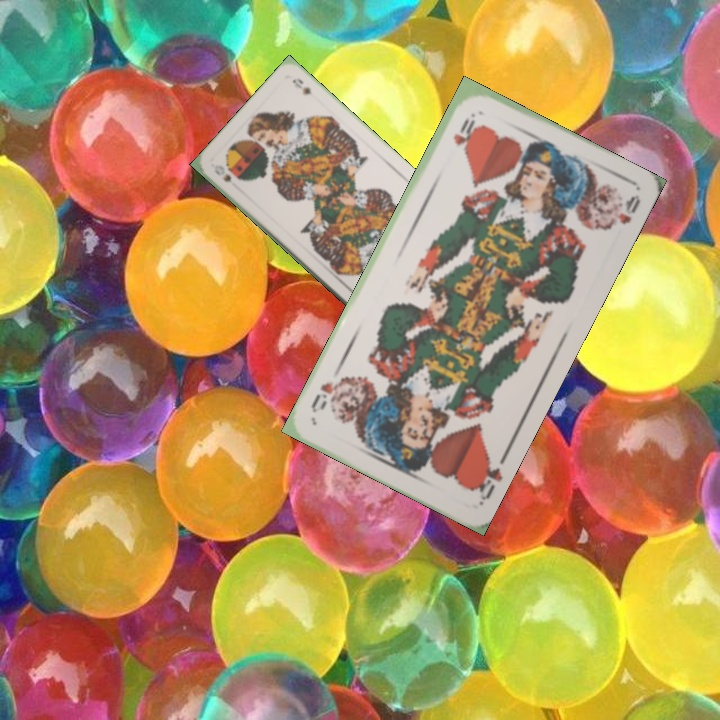HO: (468, 453, 505, 506), (449, 108, 479, 148)
SO: (210, 161, 234, 185)
